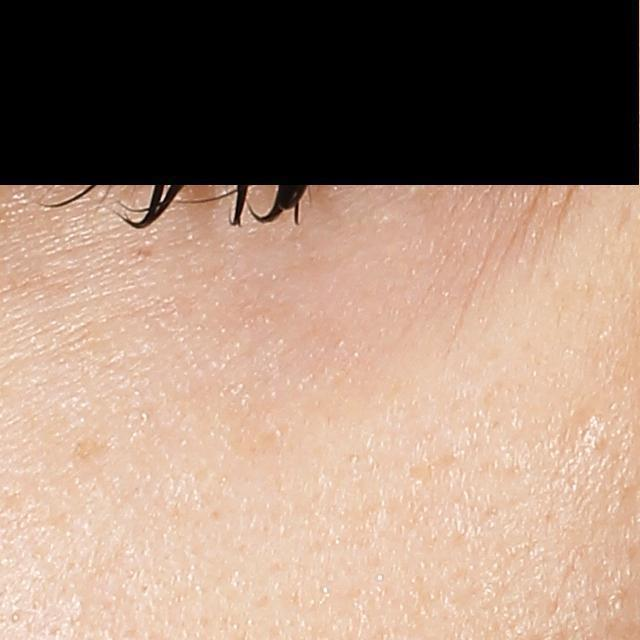comedo: (577, 404, 605, 432)
melasma: (52, 425, 126, 471)
